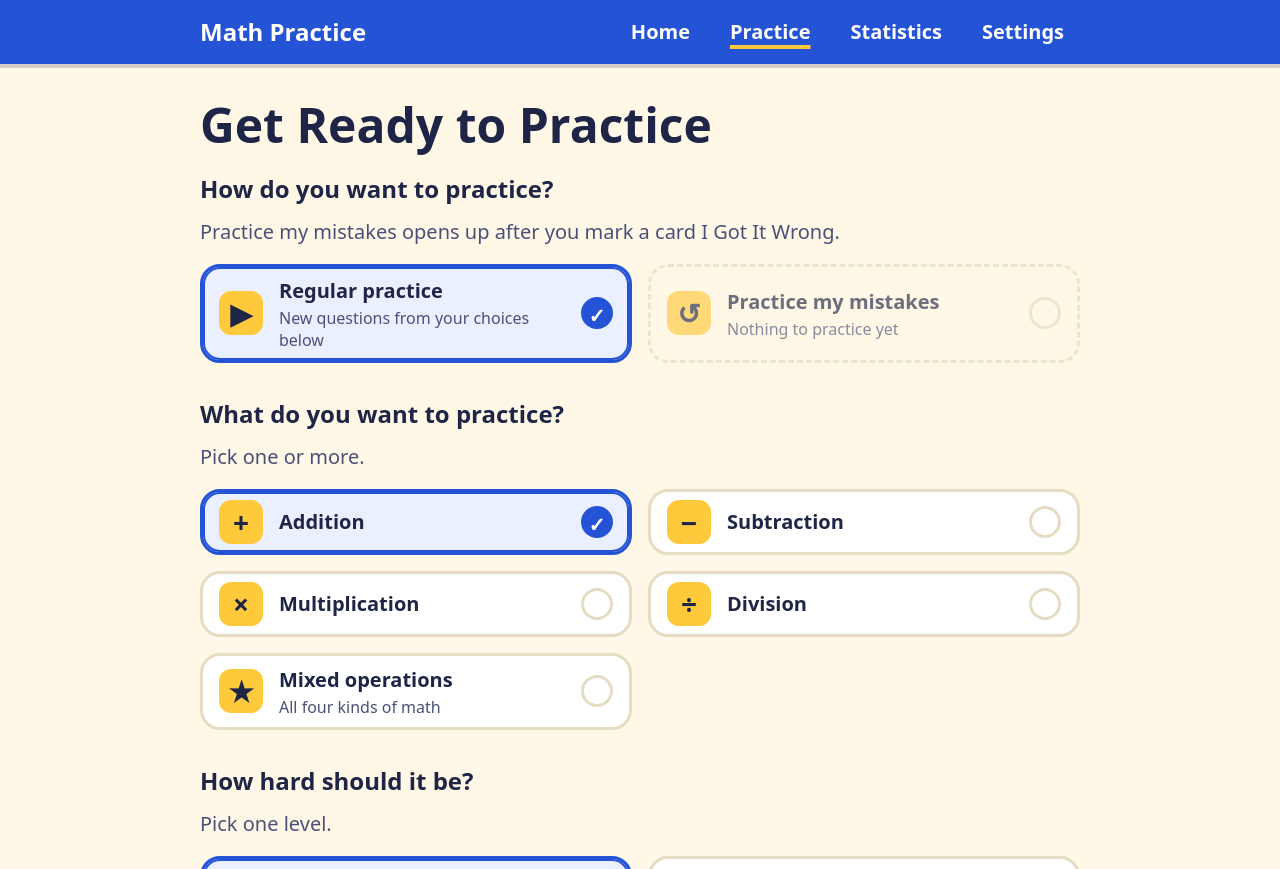
Test: PracticeSetupPage › Mixed operations selects all four, and clears them all when unchecked
The image size is (1280, 869).
Click the checkbox labelled "★ Mixed operations All four kinds of math" at (416, 691), box [200,653,632,730]
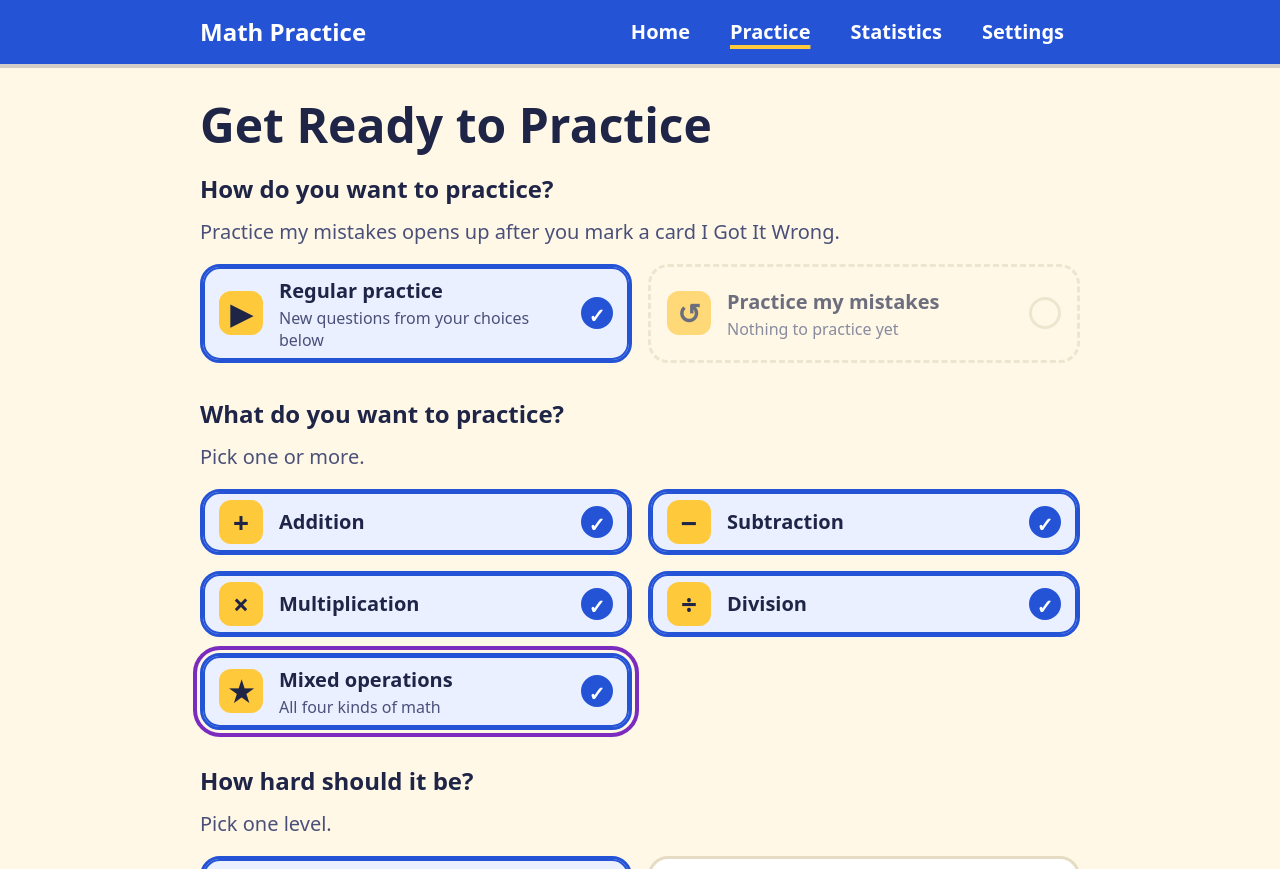
Expected: the checkbox labelled "Subtraction" is checked, [648,489,1080,555]
Expected: the checkbox labelled "Multiplication" is checked, [200,571,632,637]
Expected: the checkbox labelled "Division" is checked, [648,571,1080,637]
Click the checkbox labelled "★ Mixed operations All four kinds of math ✓" at (416, 691), box [200,653,632,730]
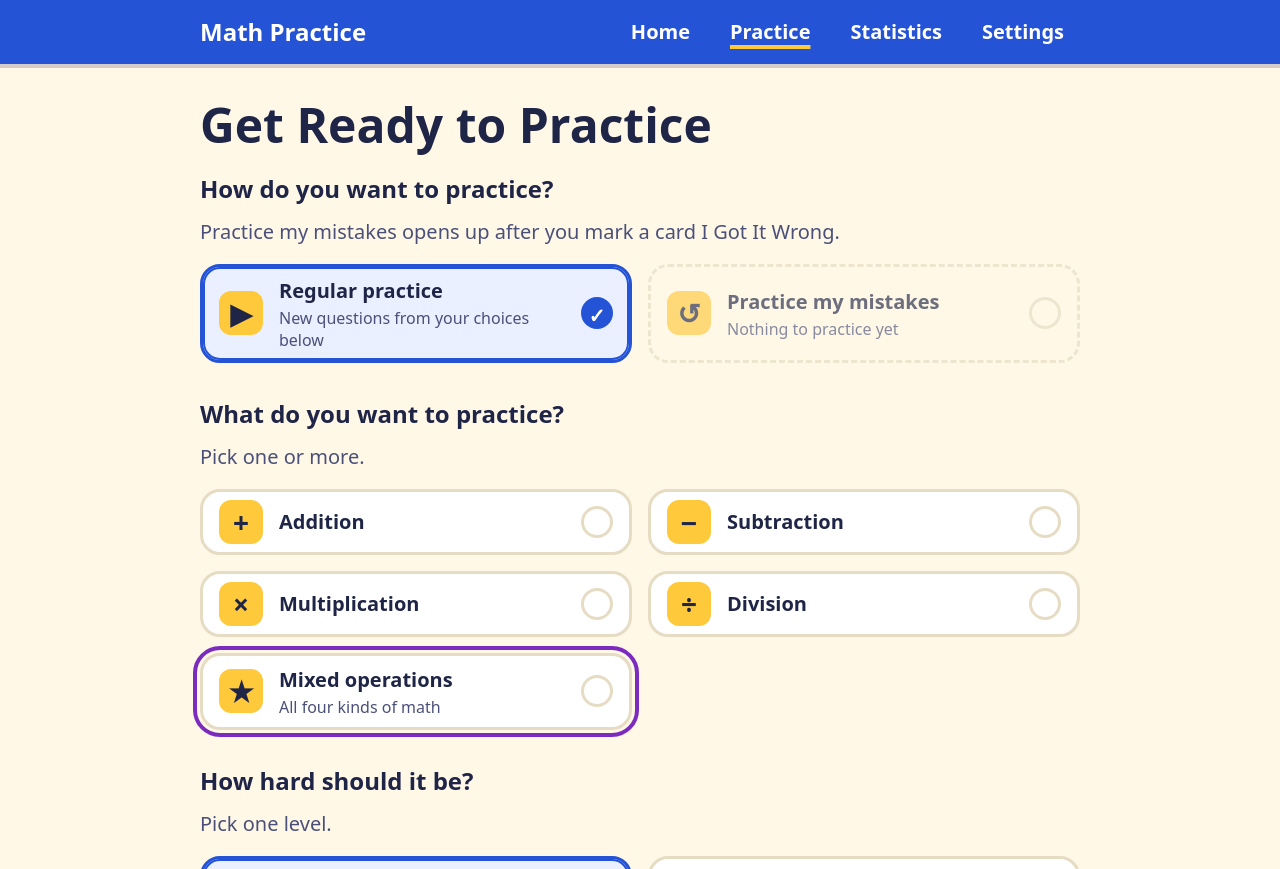
Expected: the checkbox labelled "Addition" is not checked, [200,489,632,555]
Expected: the checkbox labelled "Subtraction" is not checked, [648,489,1080,555]
Expected: the checkbox labelled "Multiplication" is not checked, [200,571,632,637]
